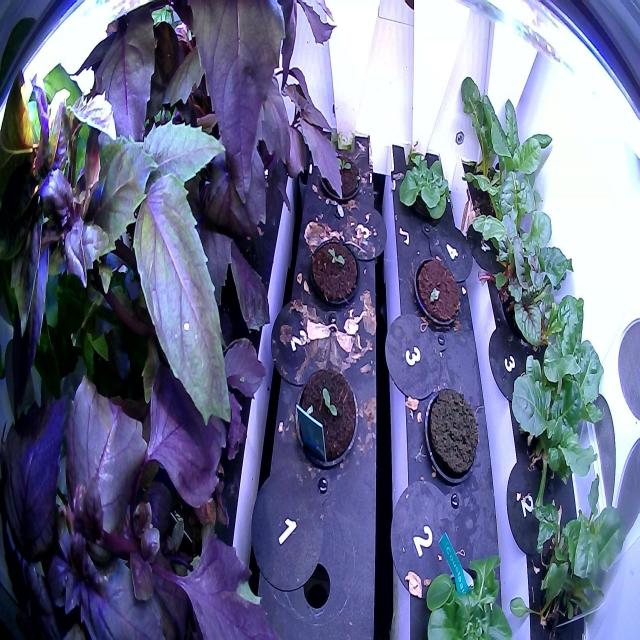germination: (292, 354, 361, 480), (307, 232, 360, 315), (317, 148, 364, 210)
pod: (421, 377, 482, 493), (409, 249, 464, 336)
